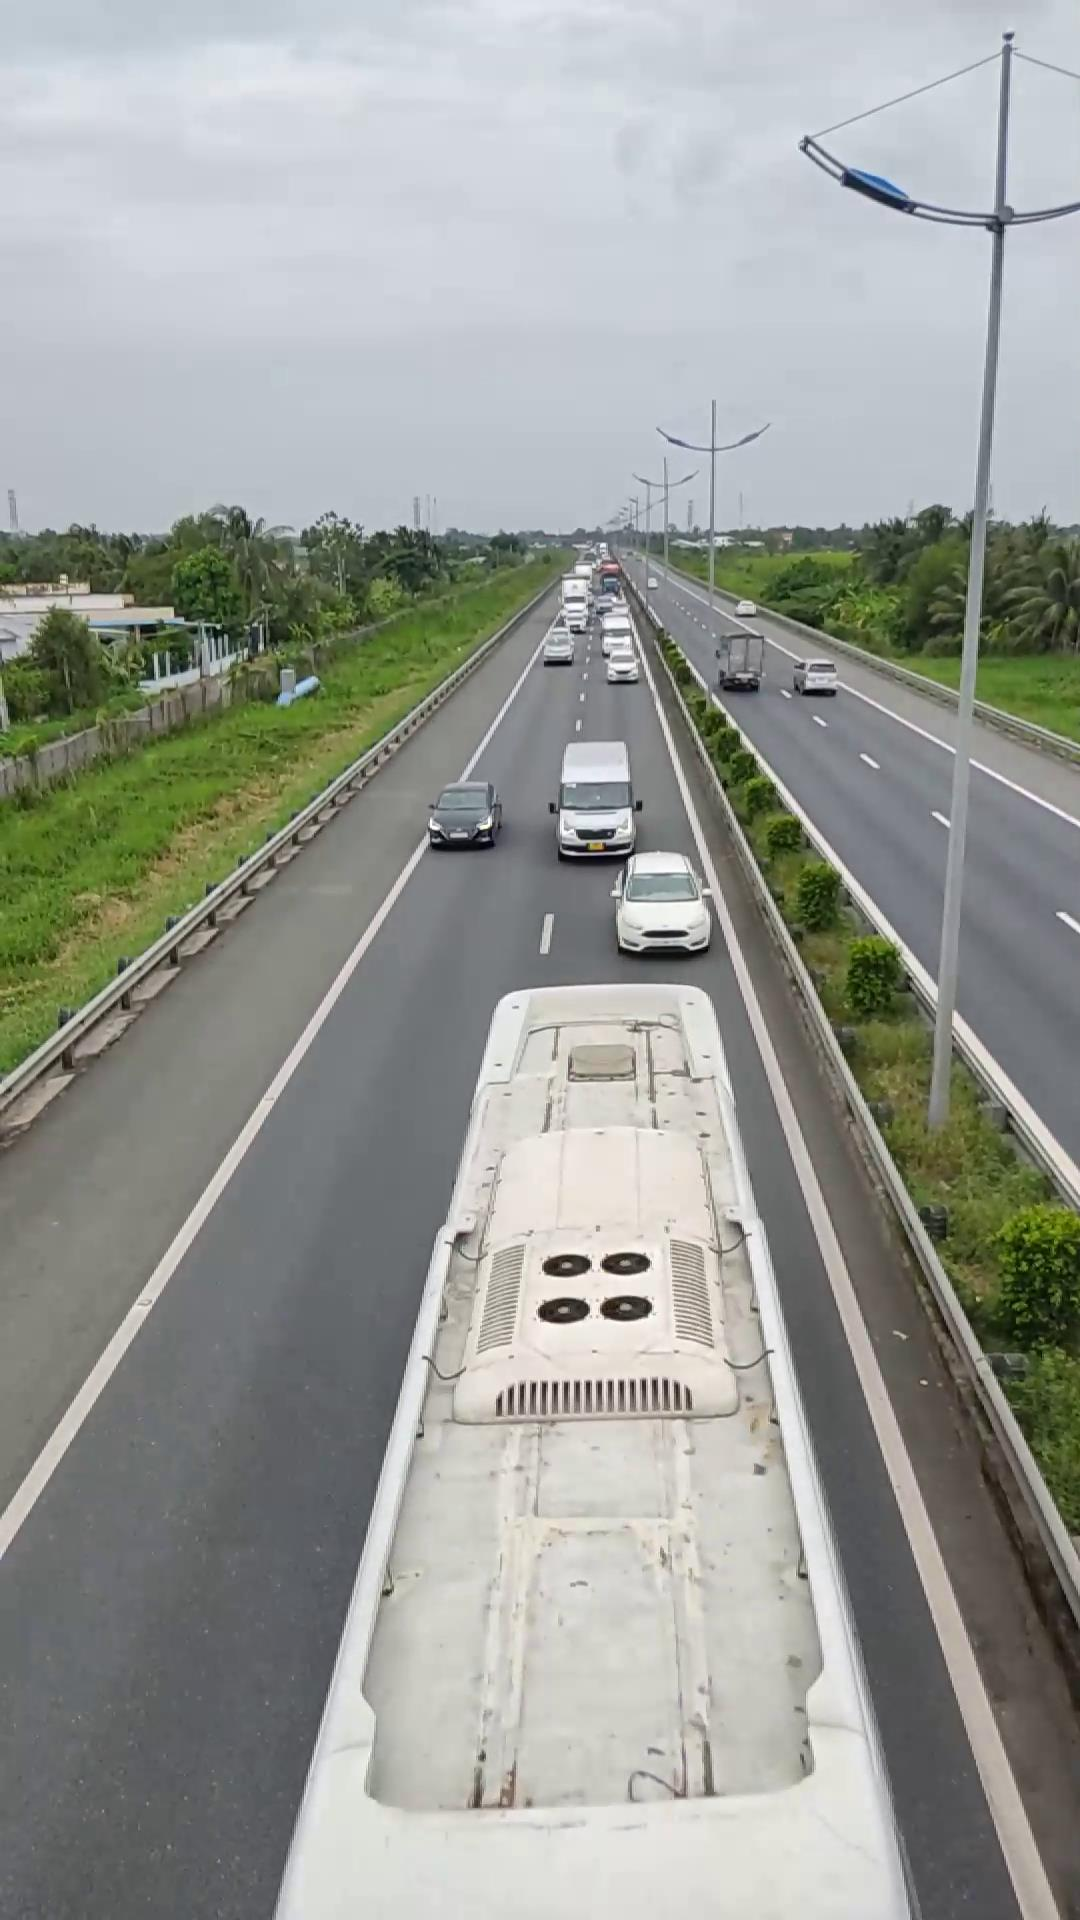bus: (272, 967, 884, 1919)
car: (549, 740, 642, 860), (609, 851, 713, 956), (426, 779, 502, 849)
